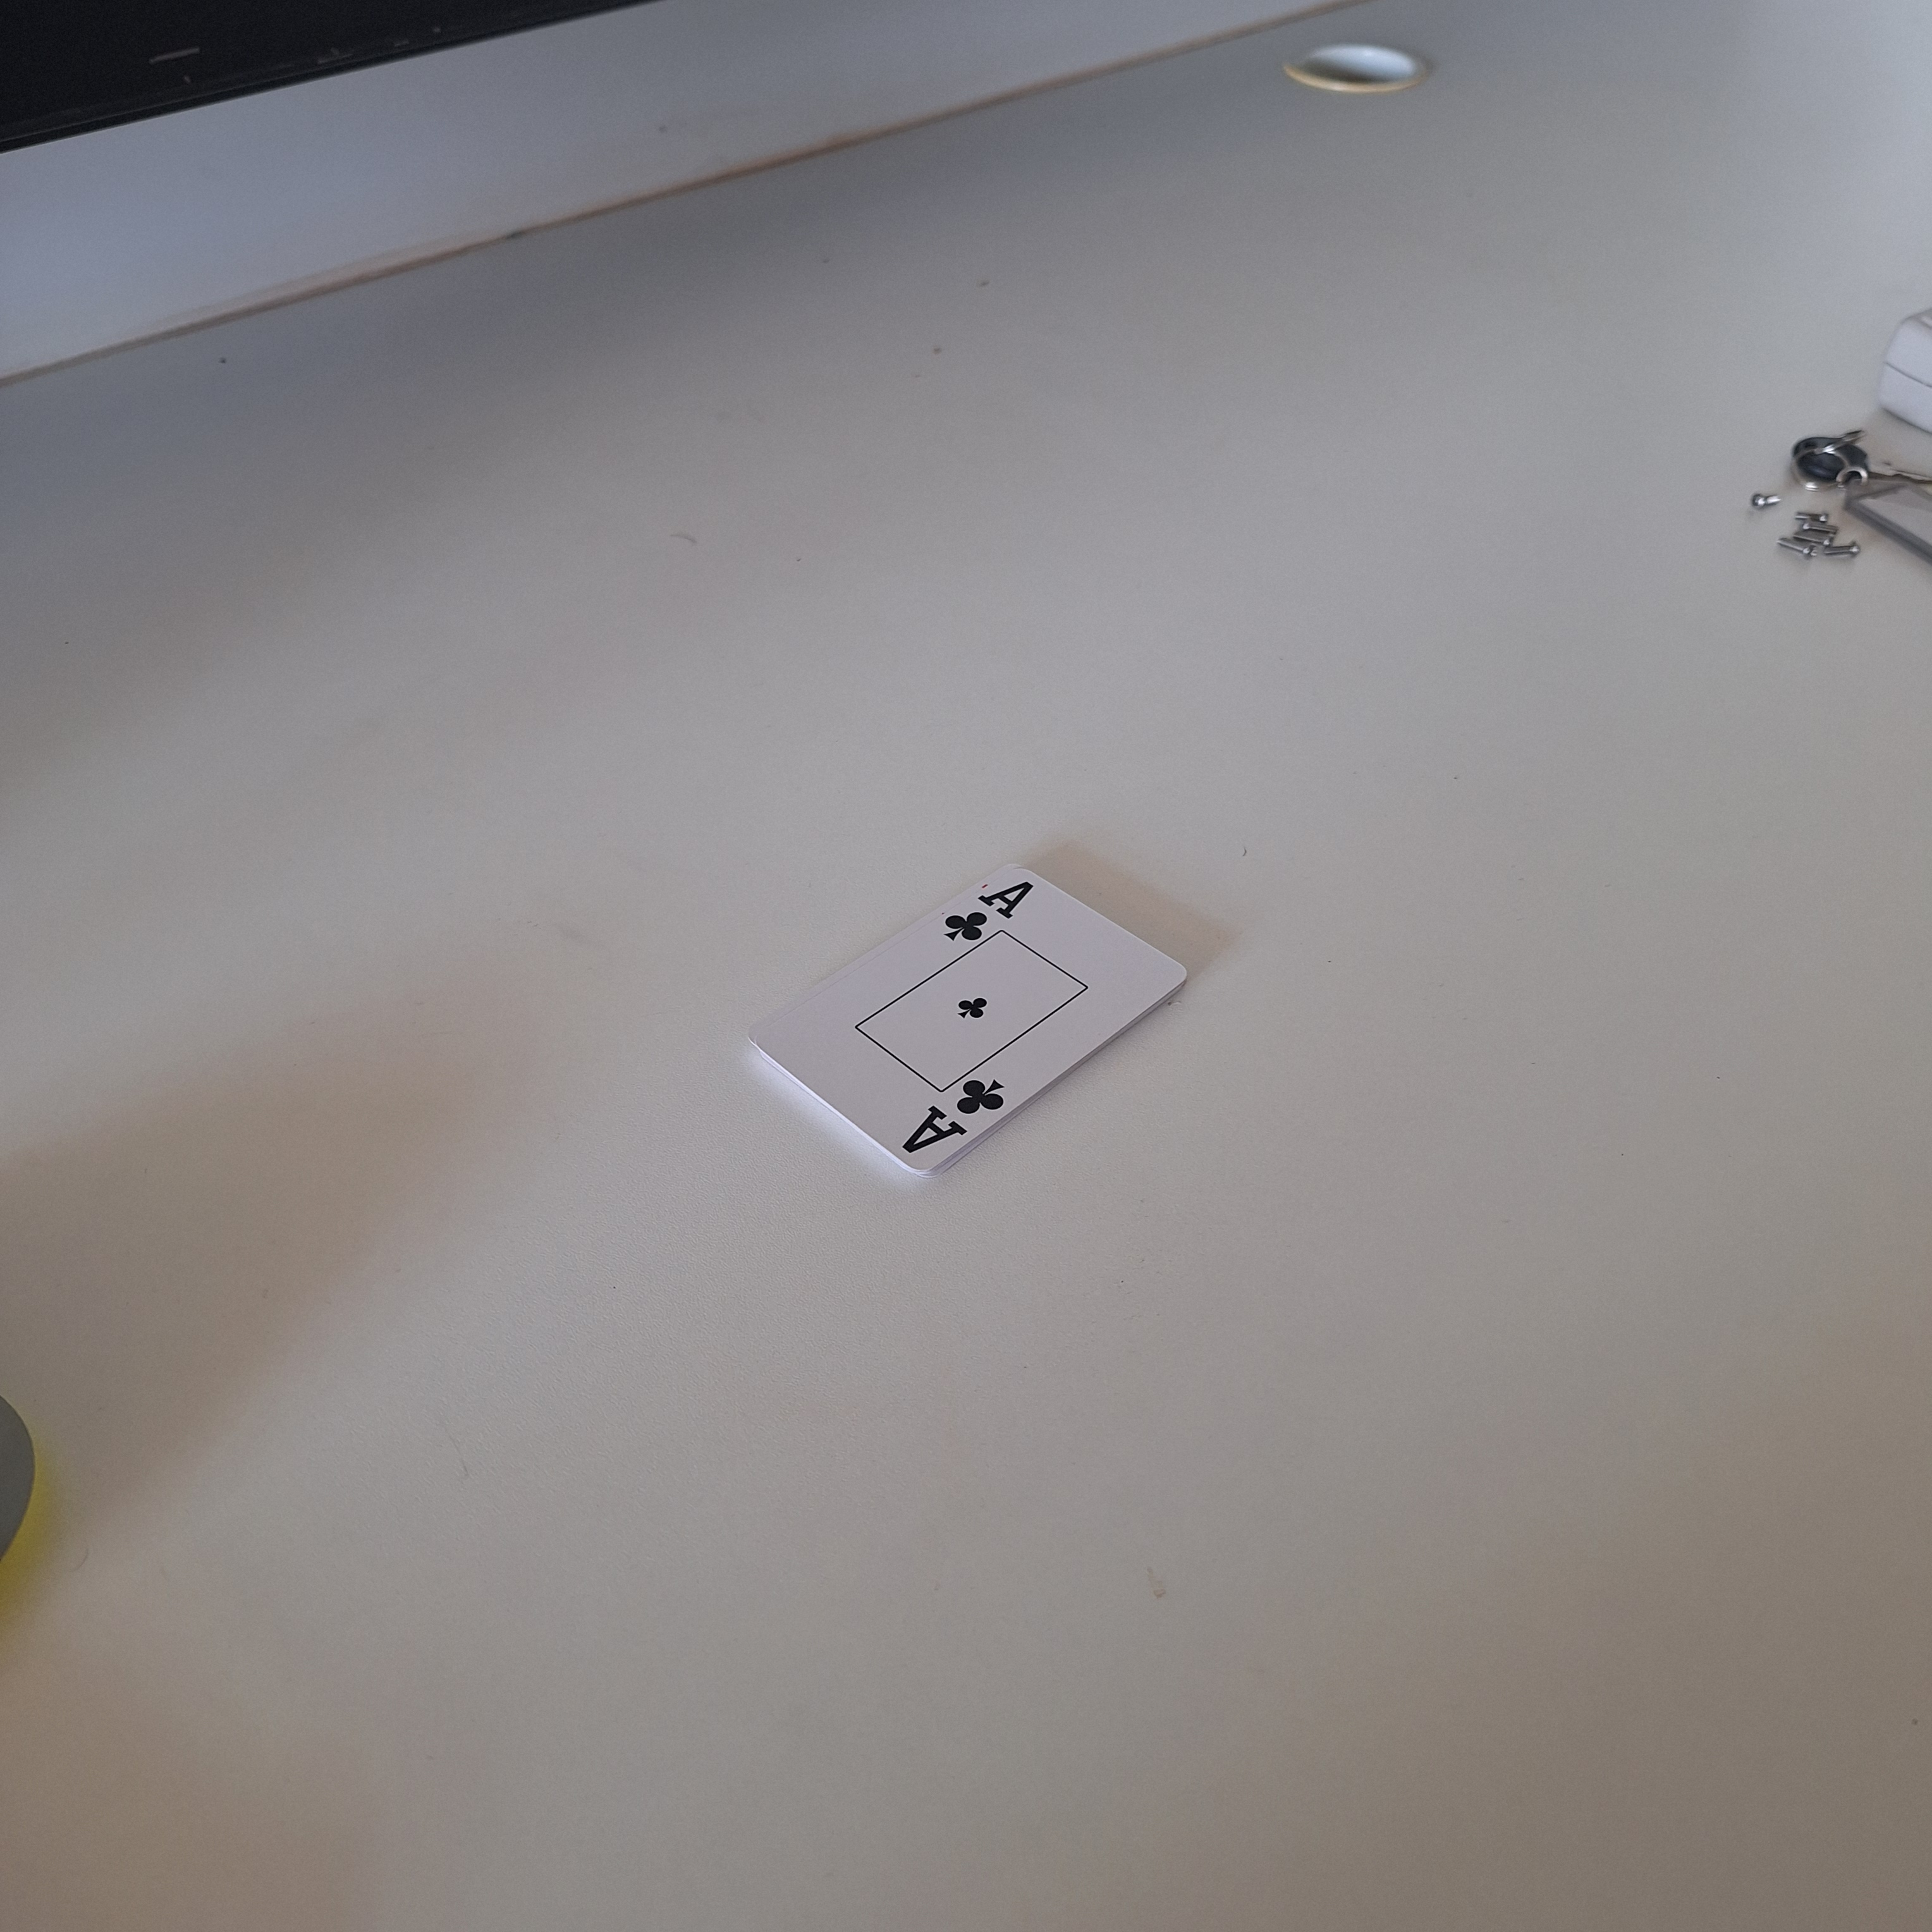AP: (897, 1072, 1016, 1164), (936, 874, 1040, 952)
